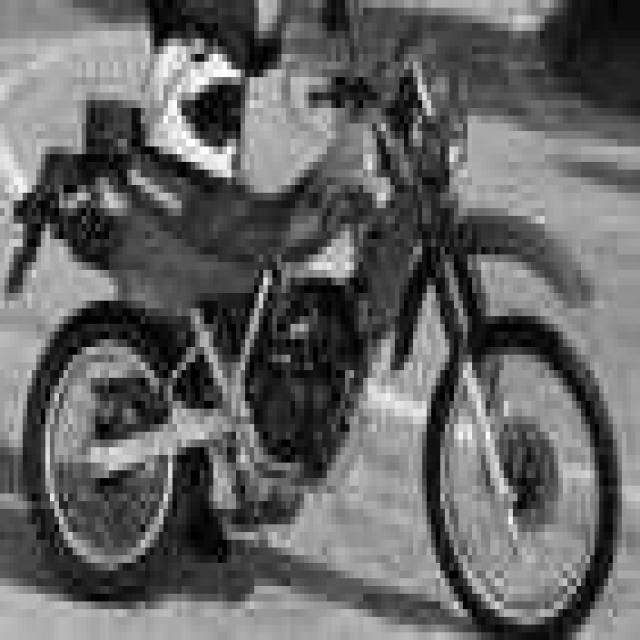Motorcycle: (6, 38, 618, 632)
